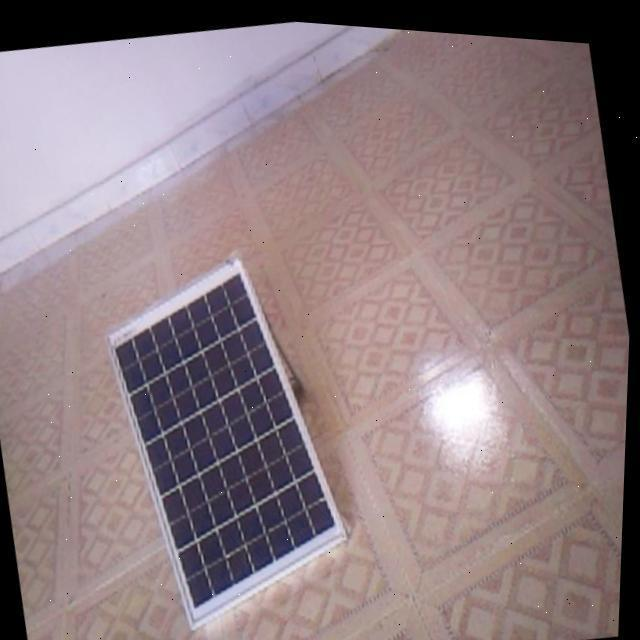Normal Solar Panel: (88, 233, 372, 640)
